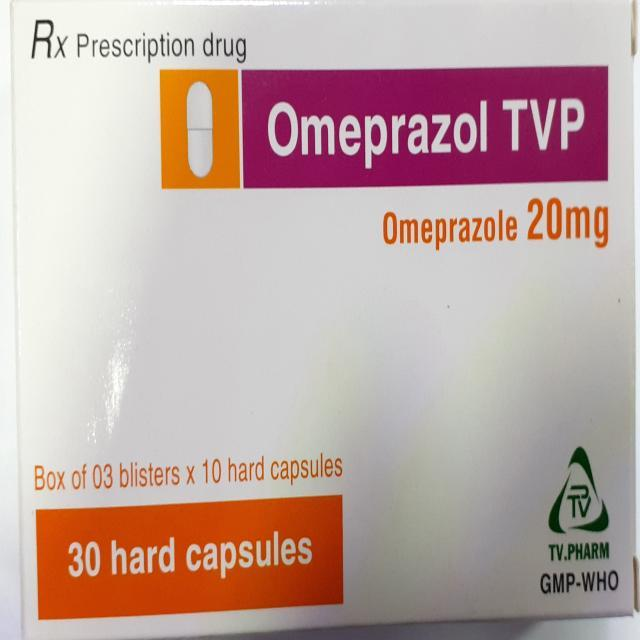drug-name: (257, 89, 595, 171)
